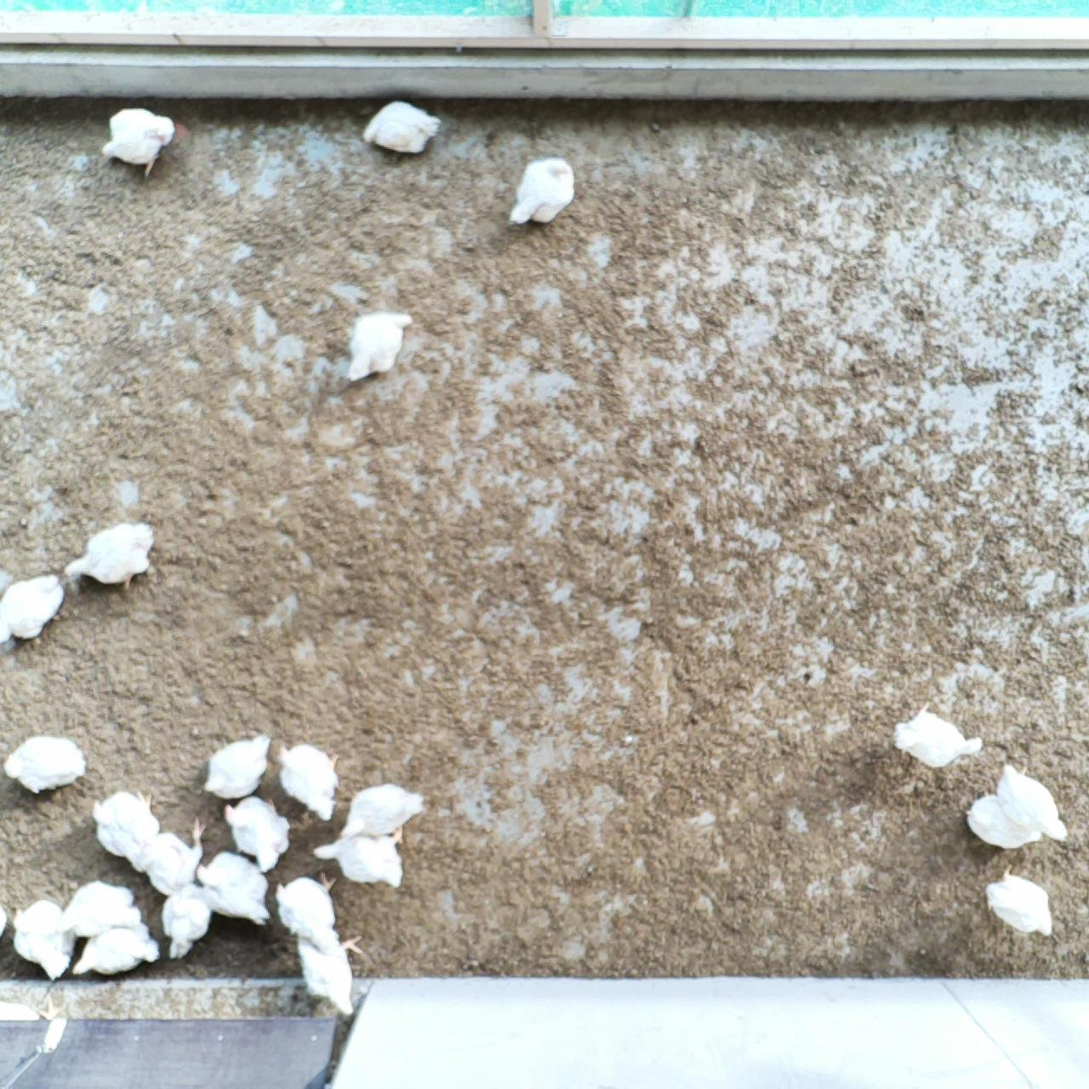chicken: (131, 814, 212, 902), (311, 820, 407, 894), (891, 698, 986, 772), (292, 928, 366, 1022), (62, 519, 157, 592), (269, 868, 344, 958), (193, 848, 274, 931), (996, 760, 1073, 845), (342, 305, 417, 391), (981, 860, 1059, 942), (221, 792, 294, 876), (960, 784, 1047, 853), (8, 898, 78, 982), (3, 732, 92, 798), (96, 106, 176, 179), (358, 93, 447, 158), (276, 739, 345, 822), (339, 780, 430, 841), (53, 876, 144, 936), (67, 924, 161, 981), (507, 155, 577, 231), (87, 788, 162, 858), (201, 729, 273, 800), (0, 571, 69, 644), (159, 881, 218, 964)
